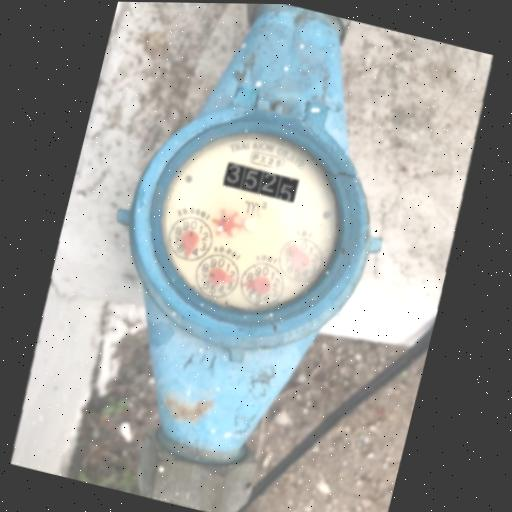2: (259, 171, 281, 198)
3: (222, 163, 246, 189)
5: (241, 167, 264, 193), (277, 176, 300, 202)
border_water_meter_number: (222, 161, 300, 203)
